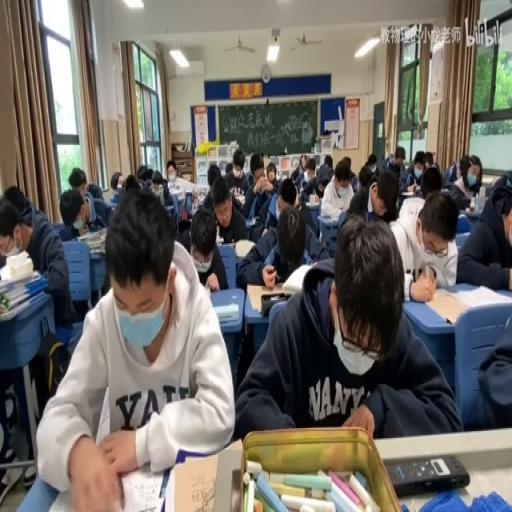calculator: (49, 452, 172, 512), (170, 452, 222, 512), (451, 283, 509, 310), (0, 288, 45, 322), (244, 282, 286, 312), (282, 262, 314, 294), (214, 301, 239, 323), (234, 236, 256, 258), (76, 228, 104, 240), (318, 209, 339, 225), (219, 239, 235, 250), (402, 183, 416, 195), (89, 246, 104, 257), (464, 209, 480, 218), (243, 216, 257, 225), (305, 199, 320, 206), (216, 235, 223, 243)
paper: (234, 216, 456, 442), (0, 184, 73, 490), (390, 185, 458, 294), (466, 294, 511, 430), (182, 204, 228, 292), (318, 155, 354, 247), (66, 165, 106, 230), (248, 165, 282, 236), (442, 154, 480, 210), (294, 169, 324, 238), (346, 165, 379, 218), (224, 148, 250, 209), (170, 186, 192, 248), (146, 168, 174, 209), (3, 185, 29, 217), (420, 164, 442, 199), (278, 178, 297, 212), (388, 145, 406, 179), (490, 174, 512, 200), (290, 154, 306, 184), (110, 171, 126, 199), (206, 162, 221, 189), (249, 154, 264, 176), (123, 172, 140, 191), (413, 152, 425, 174), (166, 158, 178, 180), (266, 160, 277, 184), (136, 164, 149, 180), (366, 154, 376, 172), (447, 160, 456, 180), (306, 160, 315, 178), (424, 151, 434, 166), (350, 174, 358, 192), (322, 155, 332, 169), (225, 162, 233, 174), (344, 156, 351, 168), (162, 176, 168, 188), (322, 130, 330, 135)
person: (386, 454, 470, 496), (230, 468, 242, 510)
